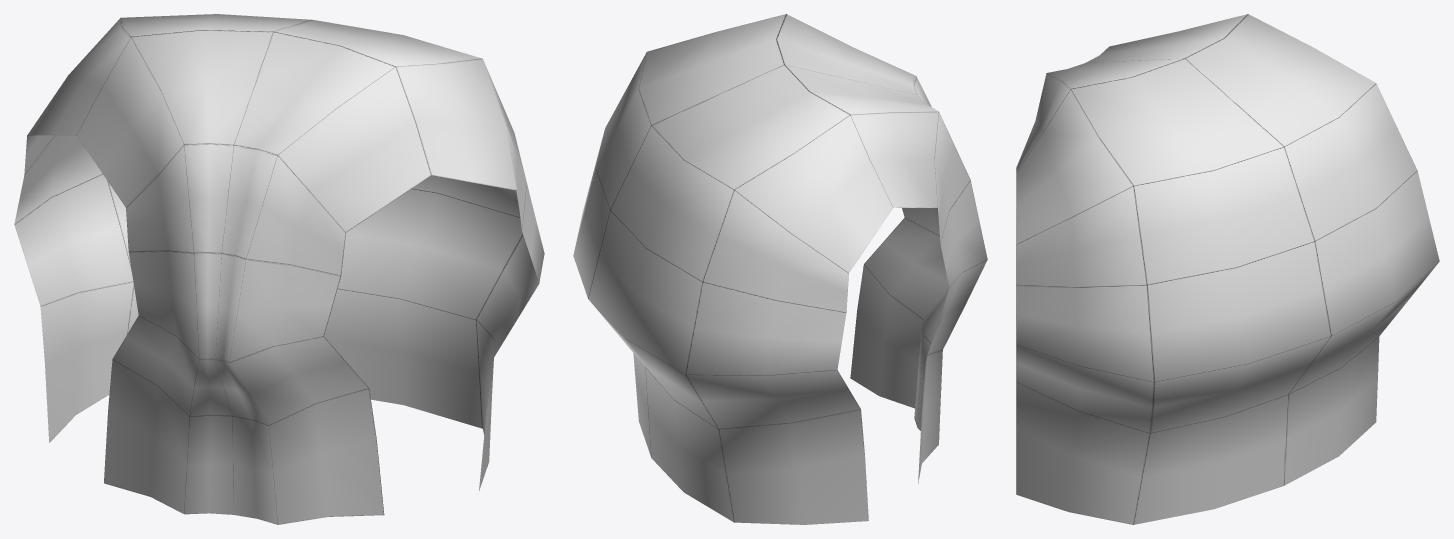
File: Wall_Turn.fbx
The picture shows the model from 3 angles, left to right: view 1: azimuth 30°, elevation 25°; view 2: azimuth 150°, elevation 25°; view 3: azimuth 270°, elevation 25°; orthographic projection. The views are drawn at different scales.
Parts seen in each view (by area): view 1: Cube.001; view 2: Cube.001; view 3: Cube.001.
Part boxes in pixels (x1,y1,x2,y2): Cube.001: [14, 14, 544, 524]; Cube.001: [573, 14, 987, 524]; Cube.001: [1016, 14, 1439, 524].
Bounding box in the file's own units: 453 × 455 × 453.
